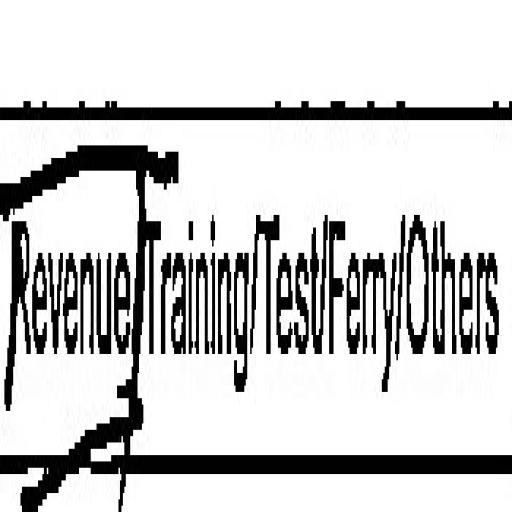check: (0, 0, 142, 512)
